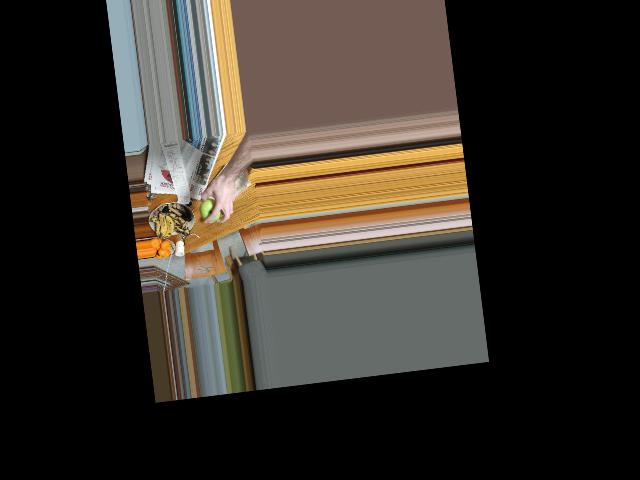apple: (199, 196, 222, 221)
